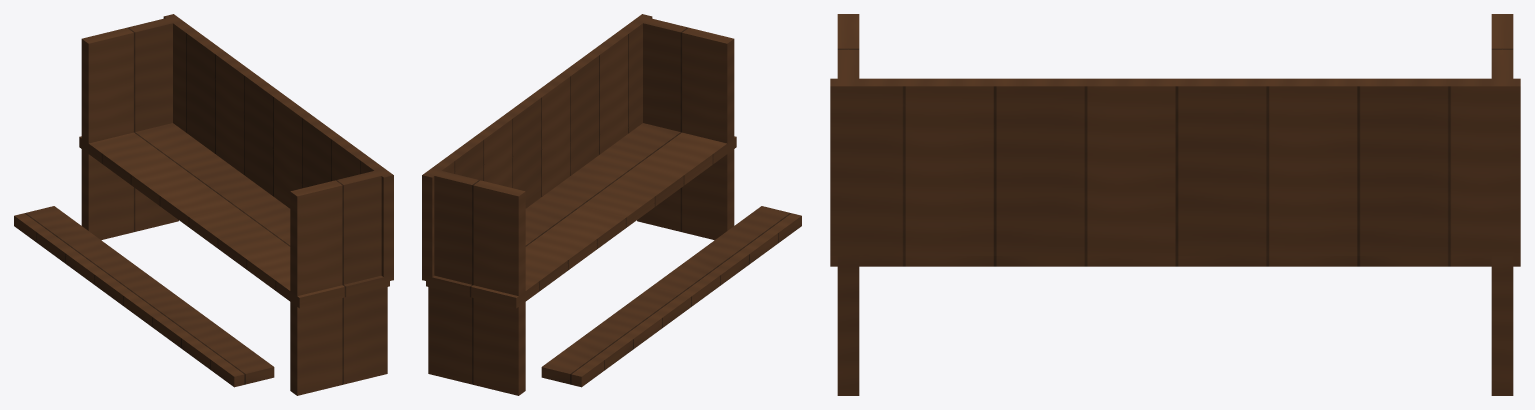
File: lawka_koscielna.glb
3 renders of one model, left to right at view 1: azimuth 30°, elevation 25°; view 2: azimuth 150°, elevation 25°; view 3: azimuth 270°, elevation 25°, orthographic. The views are drawn at different scales.
Parts seen in each view (by area): view 1: lawka_koscielna; view 2: lawka_koscielna; view 3: lawka_koscielna.
Boxes of the visible parts, x1,y1,x2,y2 form: lawka_koscielna: (14,14,393,395); lawka_koscielna: (422,14,801,395); lawka_koscielna: (830,14,1520,395).
Size of the model in its own units: 0.795 by 0.95 by 1.9.
1 material, 1 textured.
